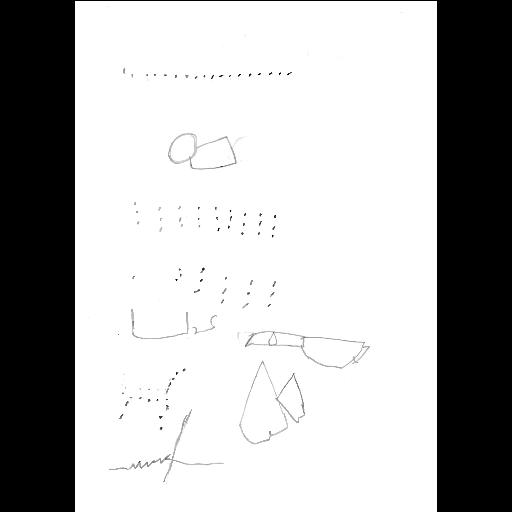shape-1: (162, 127, 240, 175)
shape-2: (120, 60, 296, 80)
shape-3: (132, 194, 280, 242)
shape-4: (124, 258, 282, 310)
shape-5: (128, 302, 220, 346)
shape-6: (118, 358, 190, 432)
shape-7: (109, 408, 229, 492)
shape-8: (233, 360, 311, 452)
shape-9: (240, 319, 376, 369)
